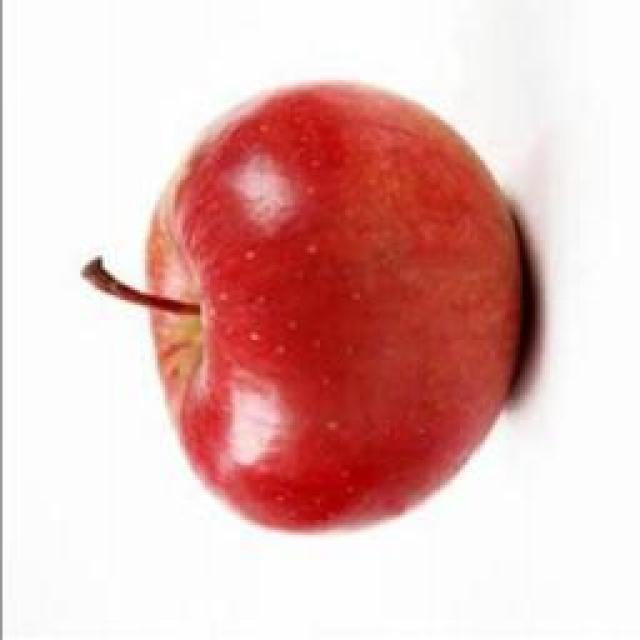Apple: (85, 82, 540, 530)
